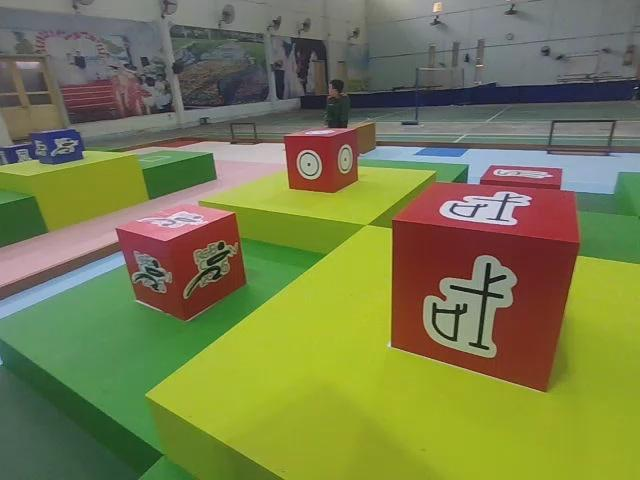R1: (114, 201, 249, 323)
R2 Real: (387, 179, 582, 395), (283, 125, 362, 194)
